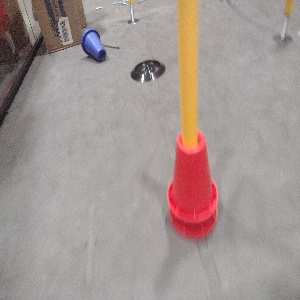Blue_1: (77, 27, 106, 64)
Red_2: (166, 128, 219, 238)
